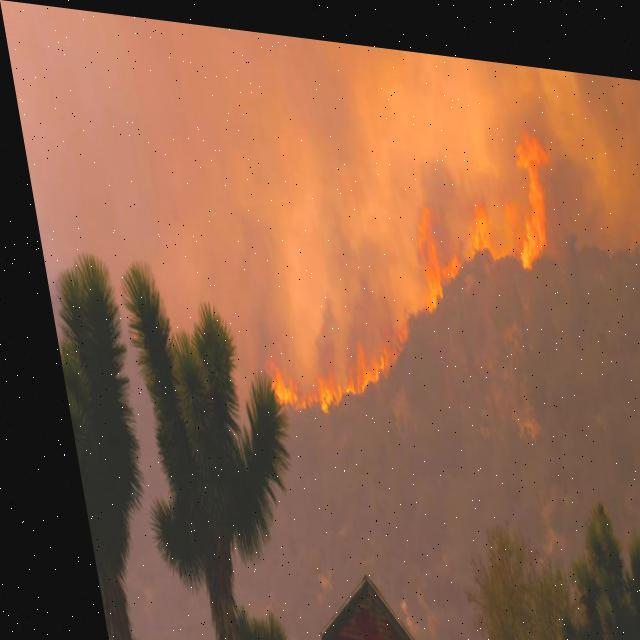Fire: (229, 298, 413, 424), (397, 186, 515, 316), (490, 106, 564, 270)
